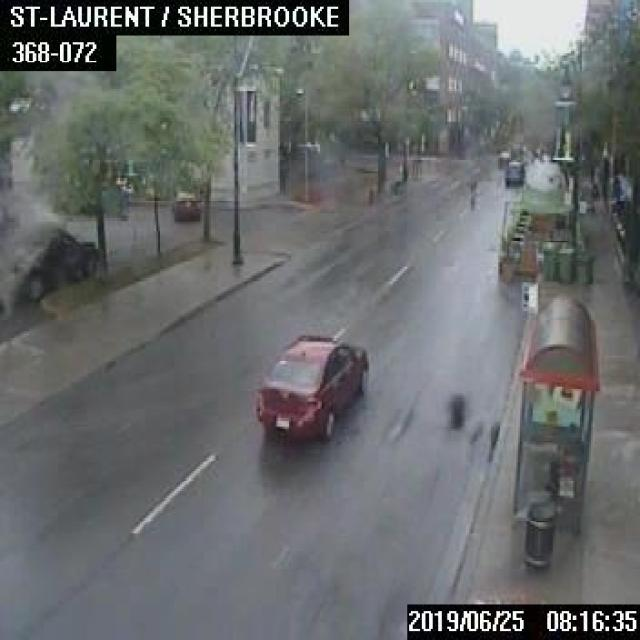pedestrian: (468, 176, 477, 206)
vehicle: (253, 331, 367, 436), (4, 226, 96, 298), (170, 190, 200, 220), (504, 160, 524, 183), (496, 148, 508, 166)
